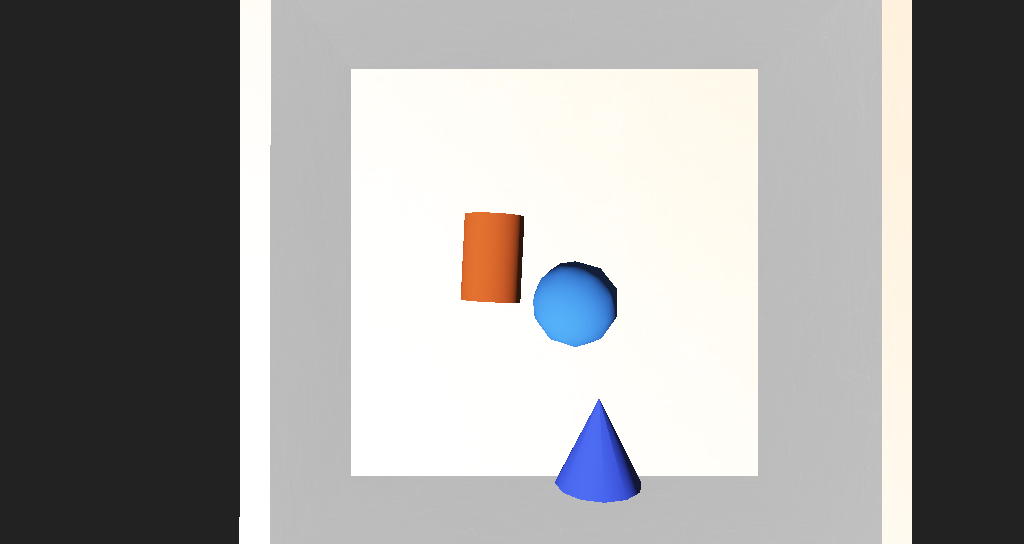cone: (431, 234, 485, 282)
cylinder: (509, 329, 569, 387)
sphere: (485, 265, 552, 308)
